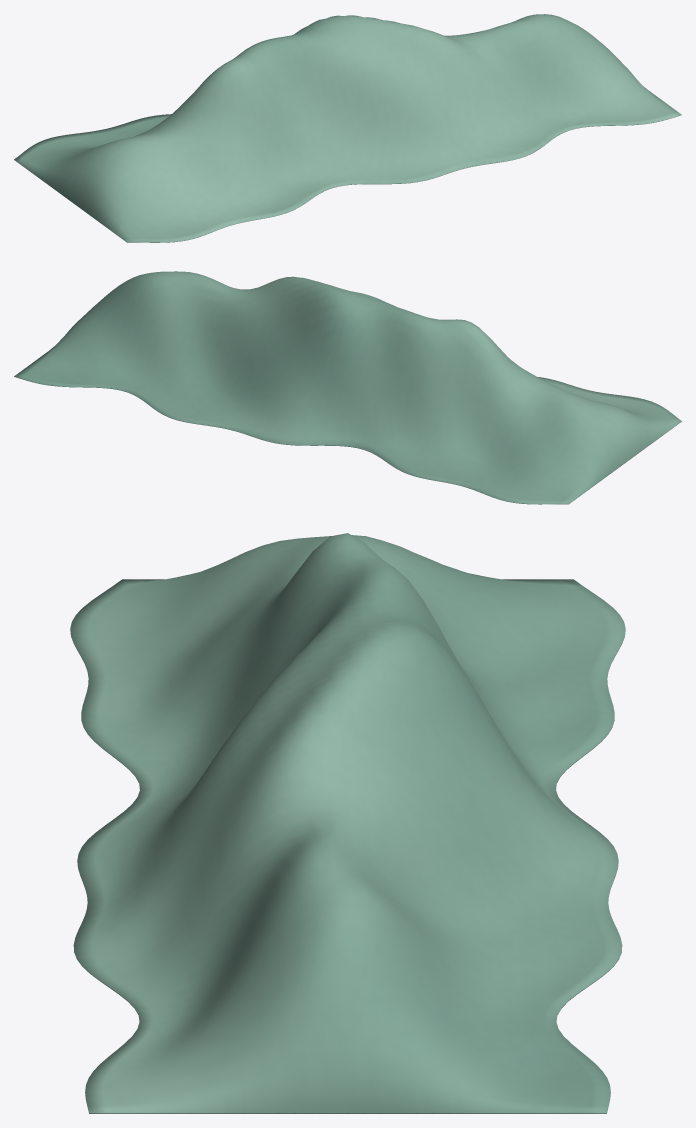
The model's file is mountain_mid_A.glb.
The picture shows the model from 3 angles, top to bottom: view 1: azimuth 30°, elevation 25°; view 2: azimuth 150°, elevation 25°; view 3: azimuth 270°, elevation 25°; orthographic projection. The views are drawn at different scales.
Visible parts, largest first — view 1: mountain_mid_A; view 2: mountain_mid_A; view 3: mountain_mid_A.
Boxes of the visible parts, <box> form: mountain_mid_A: <box>14,14,681,242</box>; mountain_mid_A: <box>14,271,681,504</box>; mountain_mid_A: <box>70,533,625,1113</box>.
Bounding box in the file's own units: 48 × 9.21 × 21.11.
1 material, 1 textured.
